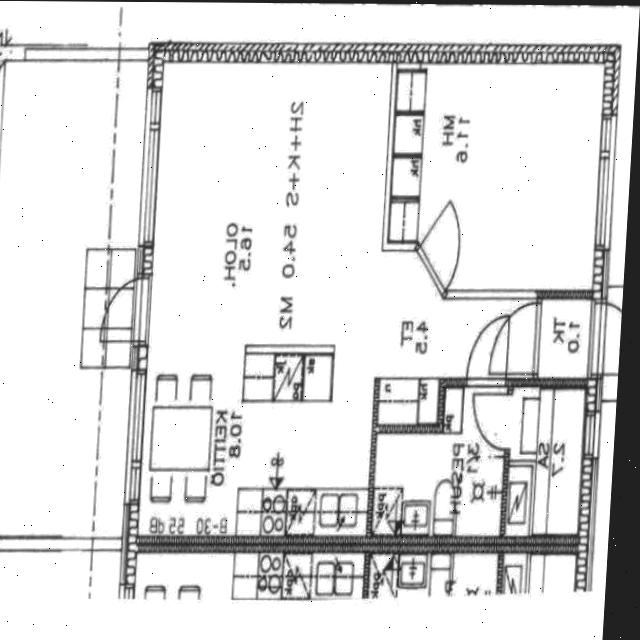room: (385, 50, 604, 297), (372, 379, 507, 542), (505, 382, 586, 538), (537, 295, 592, 380)
